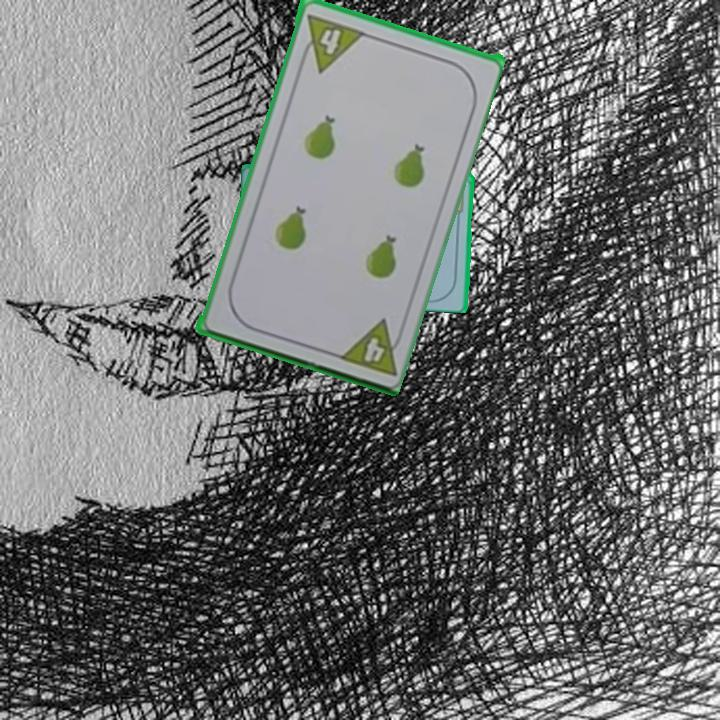4p: (332, 314, 408, 379), (295, 10, 366, 74)
